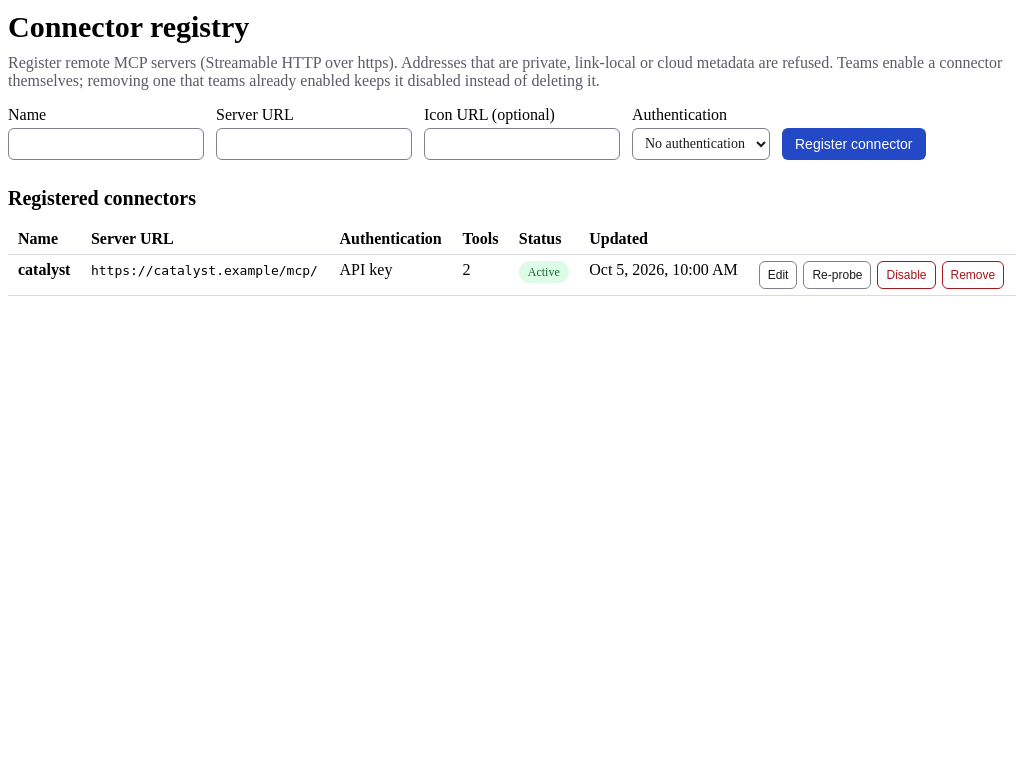
Test: Re-probe (KOBE-430) › probes now, says what changed, reloads and opens the re-approval review
The width and height of the screenshot is (1024, 761).
Click the button named "Re-probe catalyst": [838, 274] box [804,260,872,288]
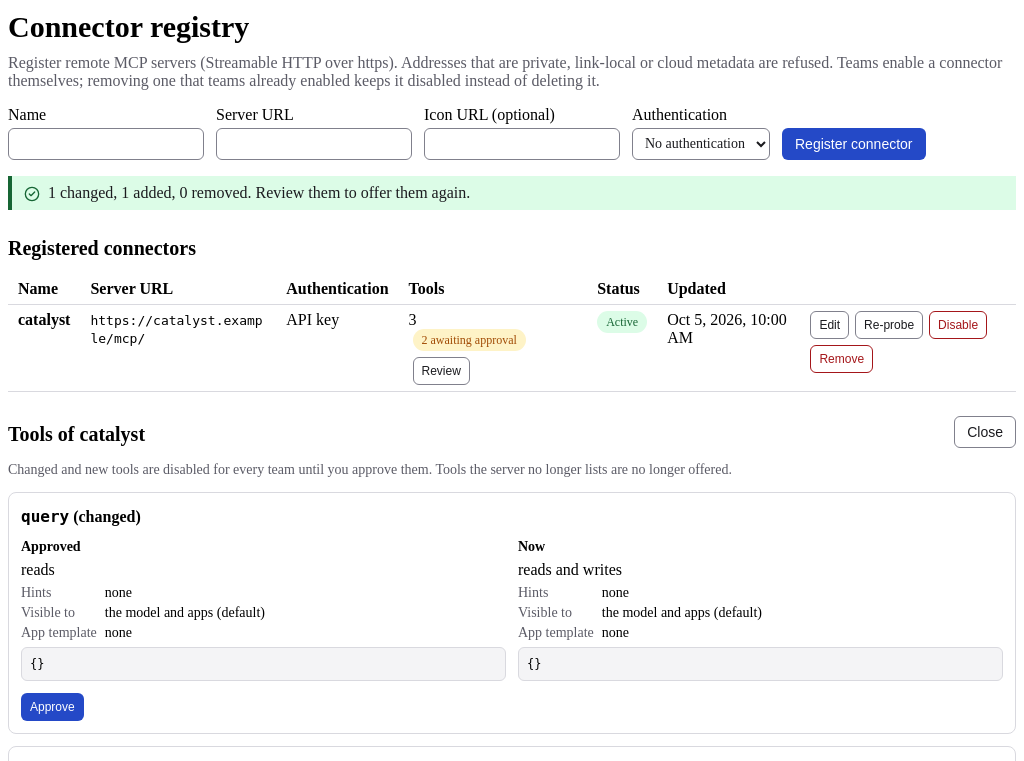
Result: the text "1 changed, 1 added, 0 removed. Review them to offer them again." is shown at [48,184,470,200]
Result: the text "2 awaiting approval" is shown at [412,328,526,350]
Result: the text "reads and writes" is shown at [518,560,622,578]
